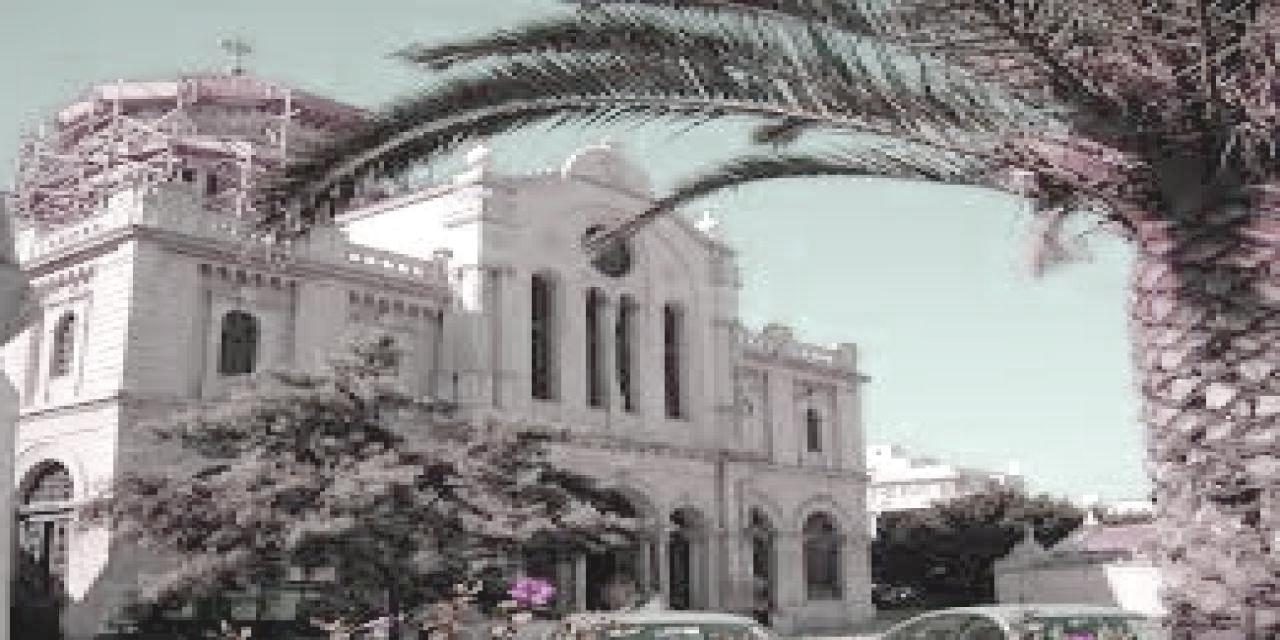Agios Minas: (1, 37, 881, 640)
